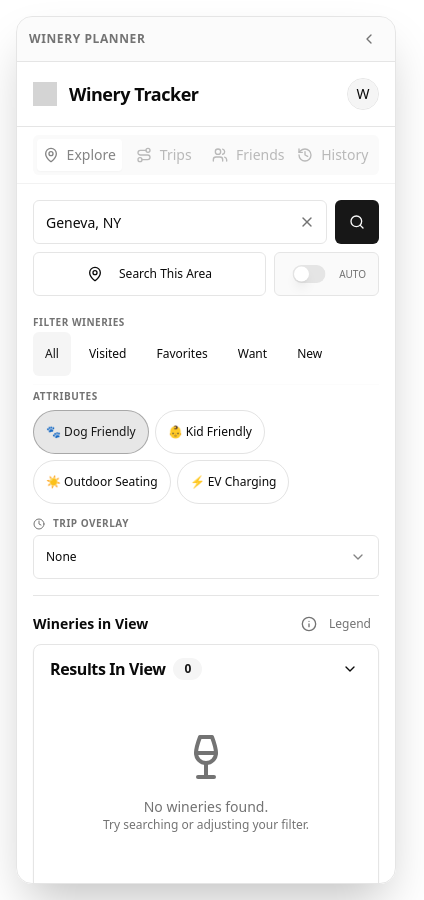
TabletFloatingDrawer Component › handles clicking the collapsed pill directly to expand in uncontrolled mode
This screenshot has width=424, height=900.
Click the button with test id "tablet-drawer-collapse-button" at (369, 39), box [355, 25, 383, 53]
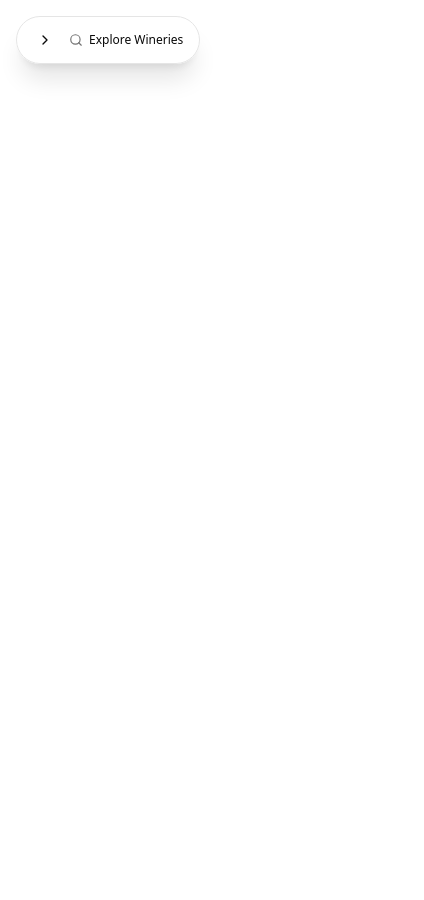
Expected: the element with test id "tablet-floating-drawer" has attribute data-state="collapsed"
Click the element with test id "tablet-floating-drawer" at (108, 40), box [16, 16, 200, 64]
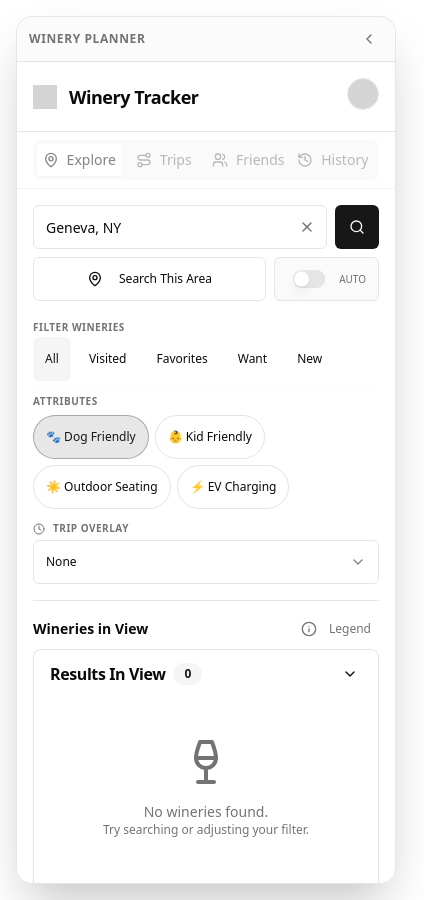
Expected: the element with test id "tablet-floating-drawer" has attribute data-state="expanded"
